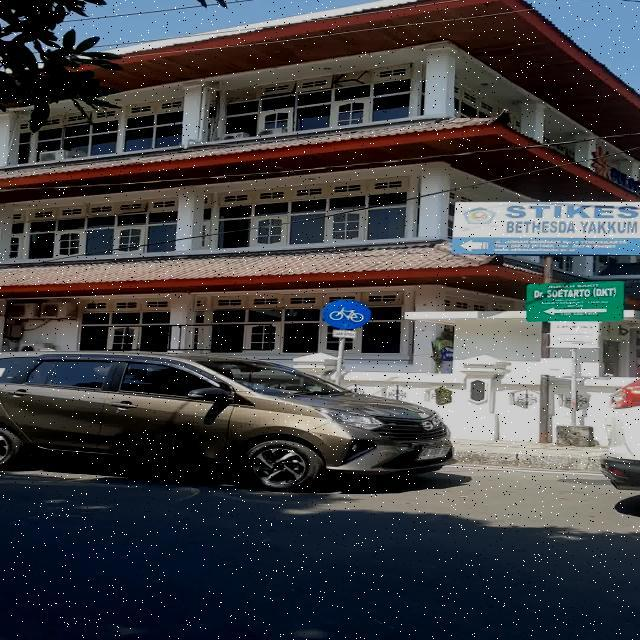Jalur Sepeda: (322, 300, 371, 330)
